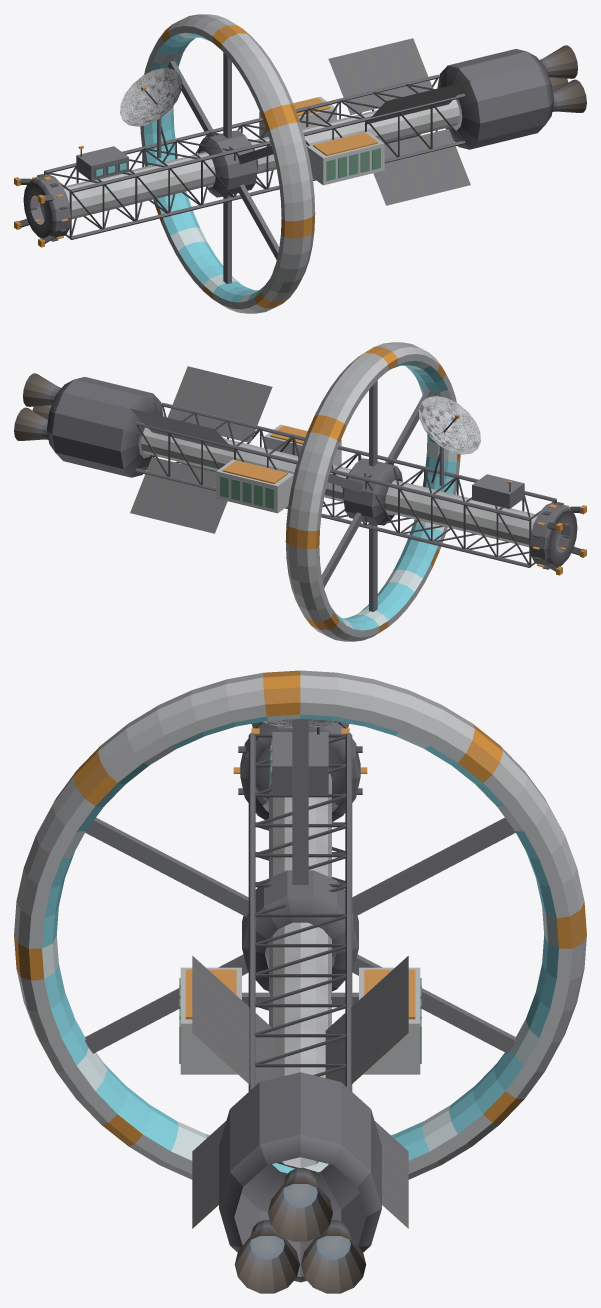
Rendered from ship_a.glb.
3 views of the same model, one above another, from view 1: azimuth 30°, elevation 25°; view 2: azimuth 150°, elevation 25°; view 3: azimuth 270°, elevation 25° (orthographic). The views are drawn at different scales.
Parts seen in each view (by area): view 1: Ring, Spine, Radiators, Engines, Ring_glow, Bays, Dish, Collar, Board, Bay, Clamps; view 2: Ring, Spine, Radiators, Engines, Ring_glow, Bay, Dish, Collar, Board, Bays, Clamps; view 3: Ring, Engines, Spine, Ring_glow, Radiators, Collar, Bay, Bays, Board, Engines_glow.
Part boxes in pixels (bbox=[...]): Ring: bbox=[140, 14, 315, 313]; Spine: bbox=[44, 74, 465, 239]; Radiators: bbox=[328, 38, 470, 205]; Engines: bbox=[437, 45, 586, 149]; Ring_glow: bbox=[144, 32, 269, 302]; Bays: bbox=[307, 131, 384, 185]; Dish: bbox=[120, 68, 182, 158]; Collar: bbox=[23, 174, 70, 241]; Board: bbox=[76, 145, 128, 180]; Bay: bbox=[259, 96, 336, 137]; Clamps: bbox=[14, 177, 54, 247]; Ring: bbox=[285, 342, 460, 641]; Spine: bbox=[135, 402, 556, 567]; Radiators: bbox=[130, 366, 272, 533]; Engines: bbox=[14, 373, 163, 477]; Ring_glow: bbox=[331, 360, 456, 630]; Bay: bbox=[216, 459, 293, 513]; Dish: bbox=[418, 396, 480, 486]; Collar: bbox=[530, 502, 577, 569]; Board: bbox=[472, 474, 524, 508]; Bays: bbox=[264, 424, 341, 465]; Clamps: bbox=[546, 505, 586, 575]; Ring: bbox=[14, 670, 586, 1179]; Engines: bbox=[219, 1072, 381, 1293]; Spine: bbox=[248, 733, 352, 1173]; Ring_glow: bbox=[42, 714, 558, 1173]; Radiators: bbox=[192, 956, 408, 1228]; Collar: bbox=[233, 722, 367, 822]; Bay: bbox=[331, 967, 421, 1074]; Bays: bbox=[179, 967, 269, 1074]; Board: bbox=[270, 727, 328, 793]; Engines_glow: bbox=[250, 1184, 350, 1259].
Bounding box in the file's own units: 22.98 × 11.24 × 11.24.
